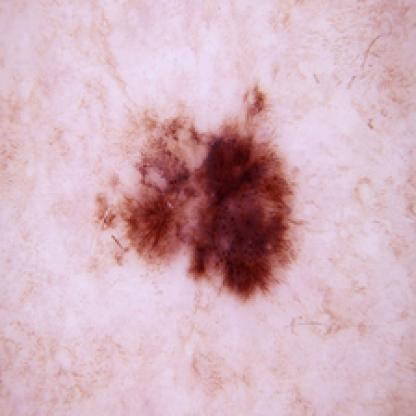Skin_Cancer-Malignant: (96, 86, 299, 305)
